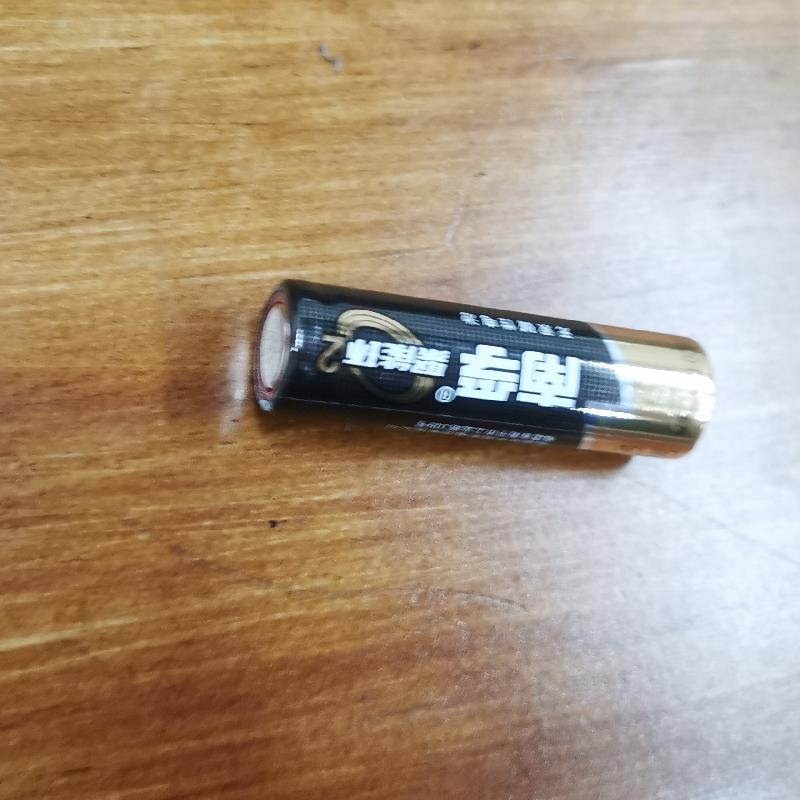battery: (257, 273, 725, 468)
